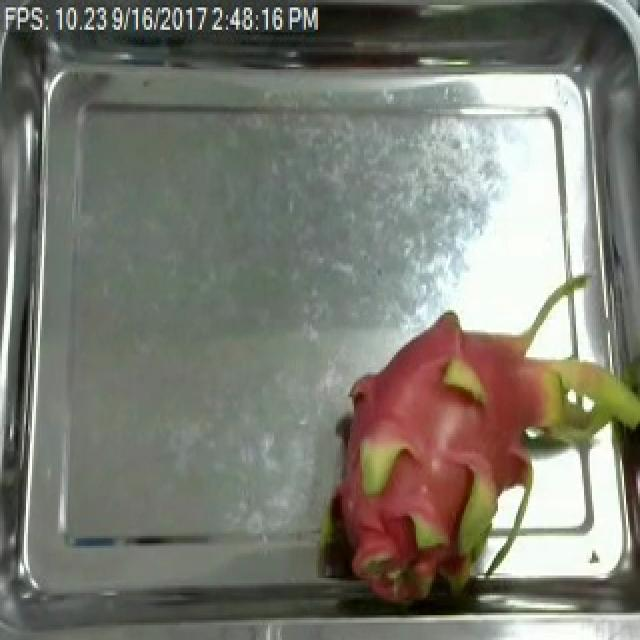fruit: (318, 268, 640, 618)
